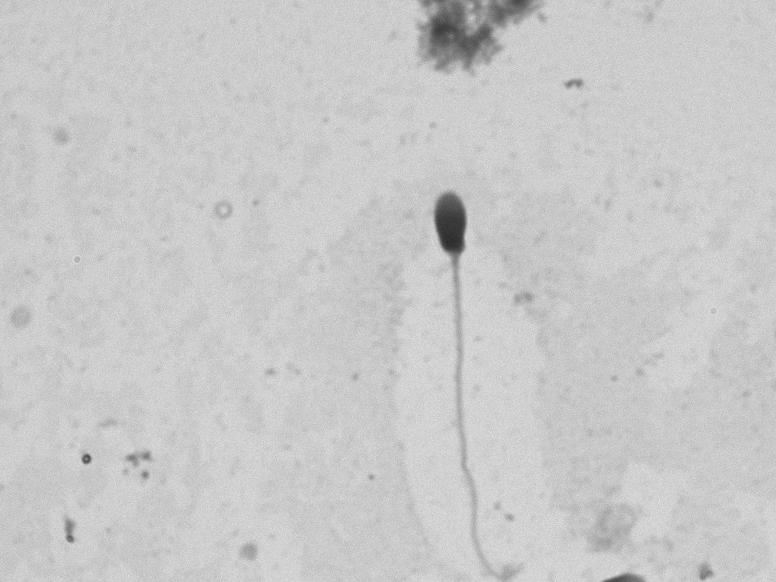Abnormal: (393, 168, 538, 567)
